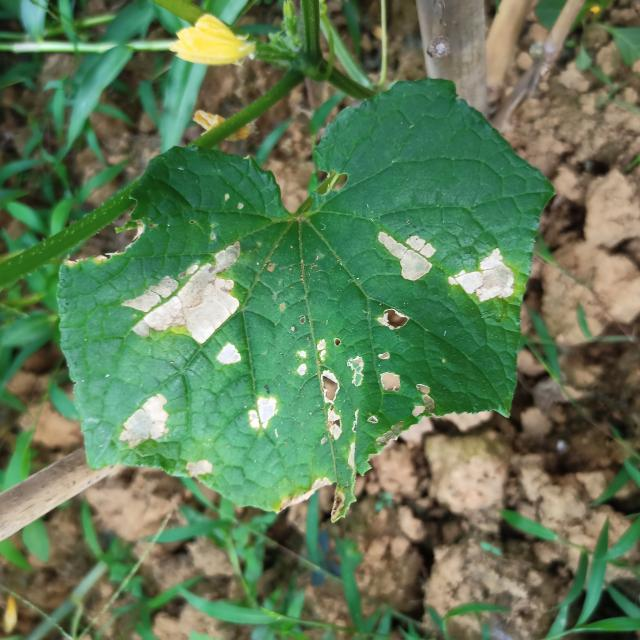disease_cucumber: (126, 242, 251, 345), (375, 226, 519, 305), (288, 332, 347, 447), (350, 353, 443, 413), (118, 390, 171, 453), (244, 391, 282, 435), (213, 341, 243, 366), (183, 456, 215, 478)
